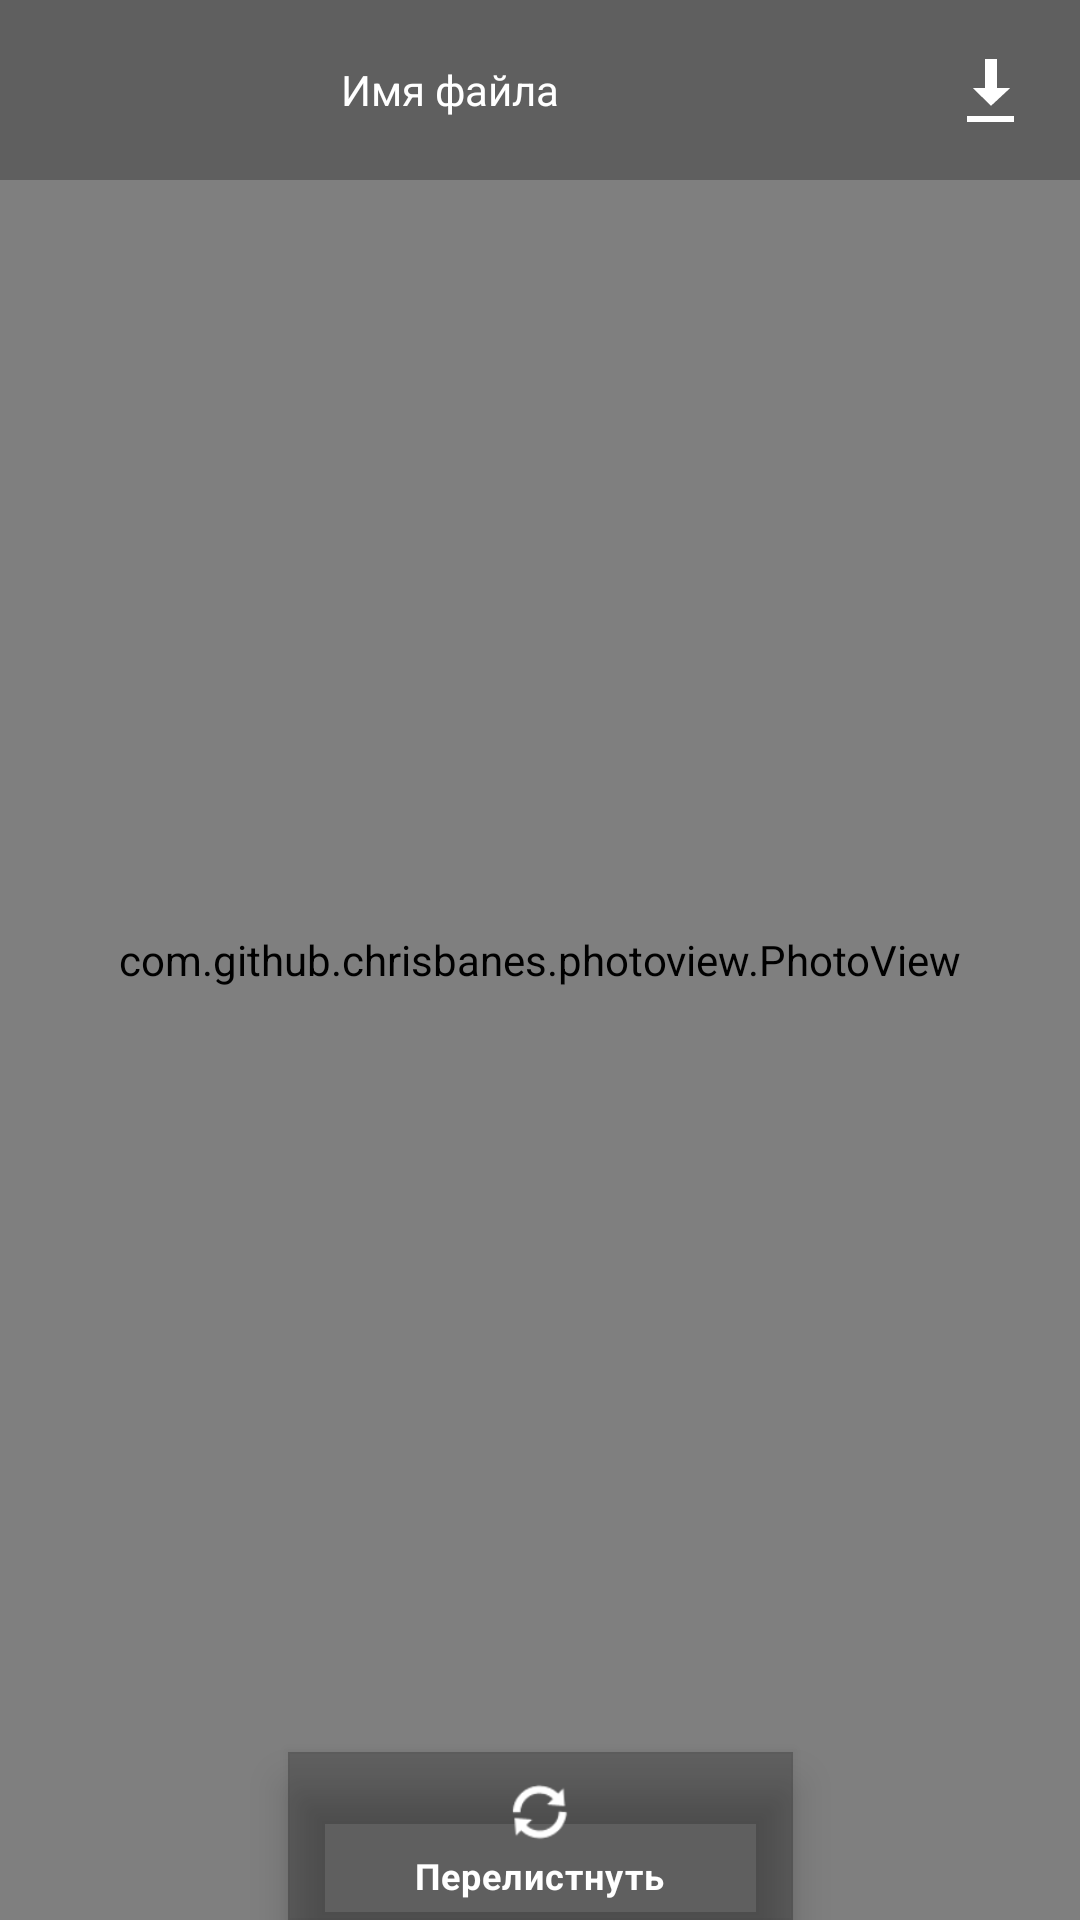

Where icons sit on this 1080px x 1920px app screen, as {"x1": x1, "y1": y1, "x2": x2, "y2": y2}:
download done: {"x1": 967, "y1": 59, "x2": 1014, "y2": 122}
